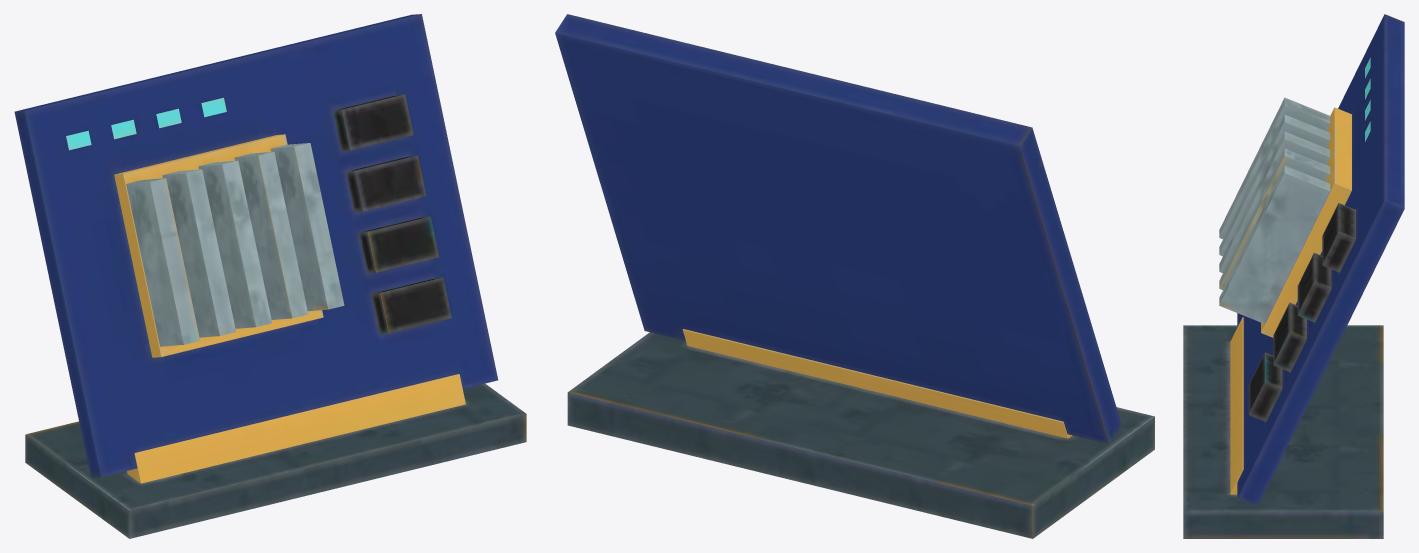
File: advanced_electronics.glb
3 renders of one model, left to right at view 1: azimuth 30°, elevation 25°; view 2: azimuth 150°, elevation 25°; view 3: azimuth 270°, elevation 25°, orthographic. The views are drawn at different scales.
Visible parts, largest first — view 1: te_res_advanced_electronics; view 2: te_res_advanced_electronics; view 3: te_res_advanced_electronics.
Boxes of the visible parts, bbox=[...] form: te_res_advanced_electronics: bbox=[14, 14, 526, 538]; te_res_advanced_electronics: bbox=[555, 14, 1154, 538]; te_res_advanced_electronics: bbox=[1183, 14, 1404, 538].
Bounding box in the file's own units: 0.44 × 0.3723 × 0.2209.
1 material, 1 textured.
